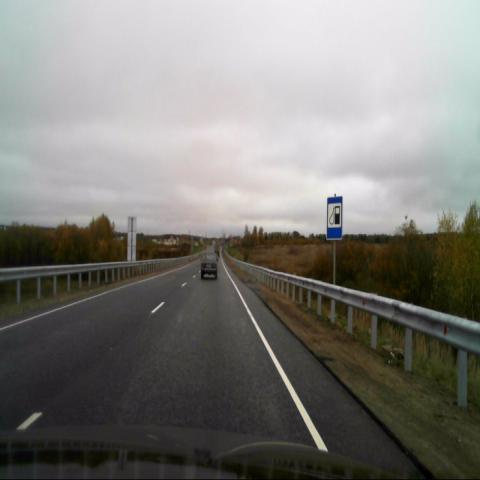7_3: (326, 196, 343, 239)
